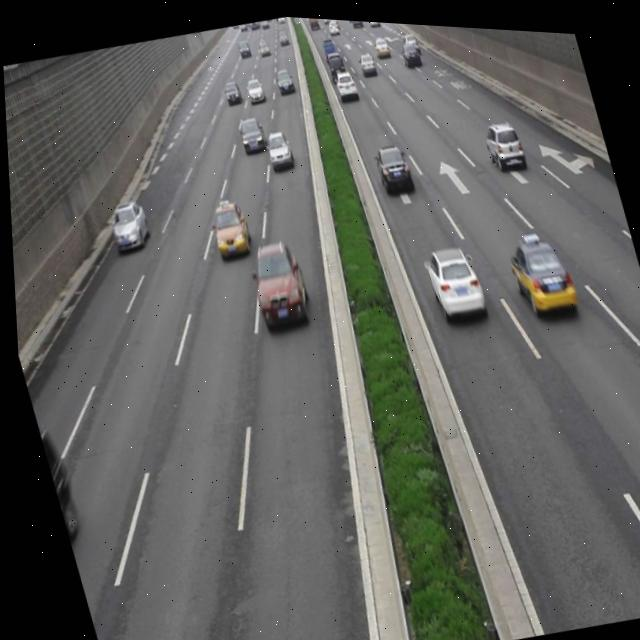car: (499, 219, 579, 322), (239, 231, 311, 331), (417, 236, 486, 325), (204, 196, 252, 259), (478, 111, 526, 170), (102, 195, 151, 252), (370, 138, 413, 193), (233, 113, 268, 155), (262, 126, 292, 167)
